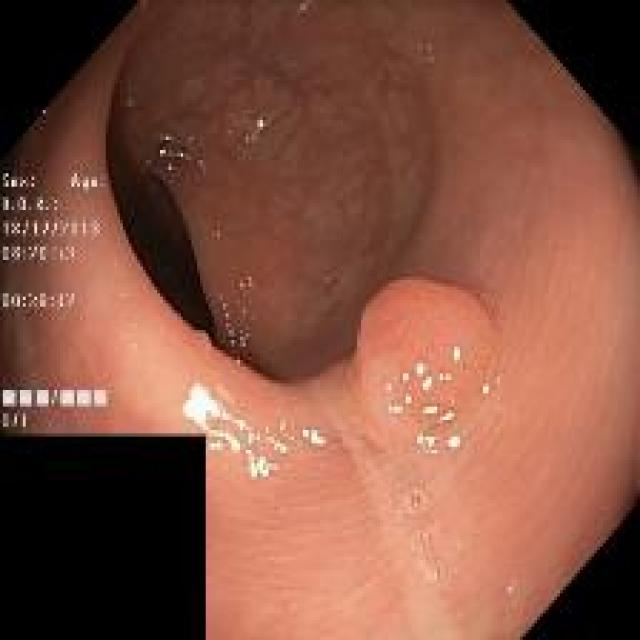Polyps: (349, 279, 496, 454)
